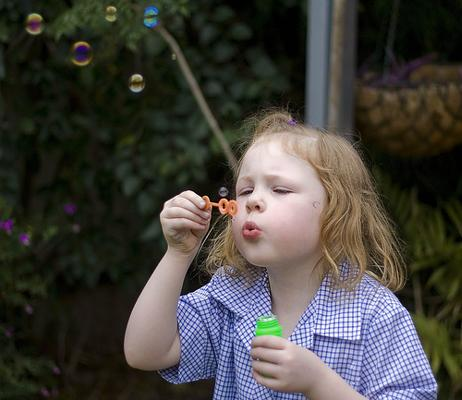person: (122, 112, 443, 399)
